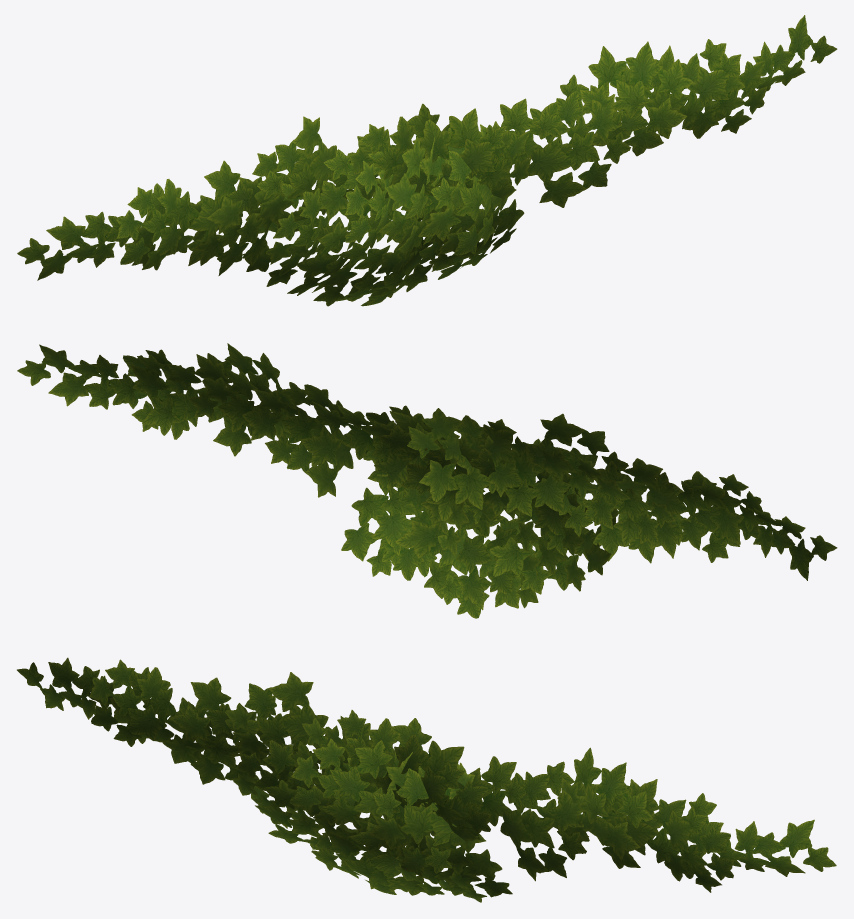
Rendered from SM_fwOF_IvyGroup_05.fbx.
The picture shows the model from 3 angles, top to bottom: view 1: azimuth 30°, elevation 25°; view 2: azimuth 150°, elevation 25°; view 3: azimuth 330°, elevation 25°; orthographic projection. The views are drawn at different scales.
Visible parts, largest first — view 1: SM_fwOF_IvyGroup_05_LOD0; view 2: SM_fwOF_IvyGroup_05_LOD0; view 3: SM_fwOF_IvyGroup_05_LOD0.
Boxes of the visible parts, x1,y1,x2,y2 form: SM_fwOF_IvyGroup_05_LOD0: (17, 15, 837, 306); SM_fwOF_IvyGroup_05_LOD0: (17, 343, 837, 618); SM_fwOF_IvyGroup_05_LOD0: (17, 657, 836, 902).
Size of what is drawn, in the model's own units: 4.28 by 1.11 by 0.3872.
